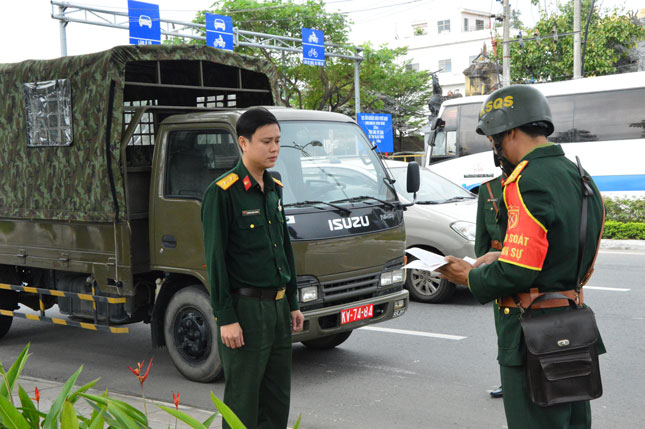plate: (336, 302, 380, 321)
